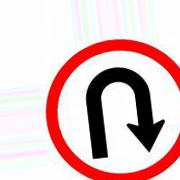back: (45, 39, 180, 180)
